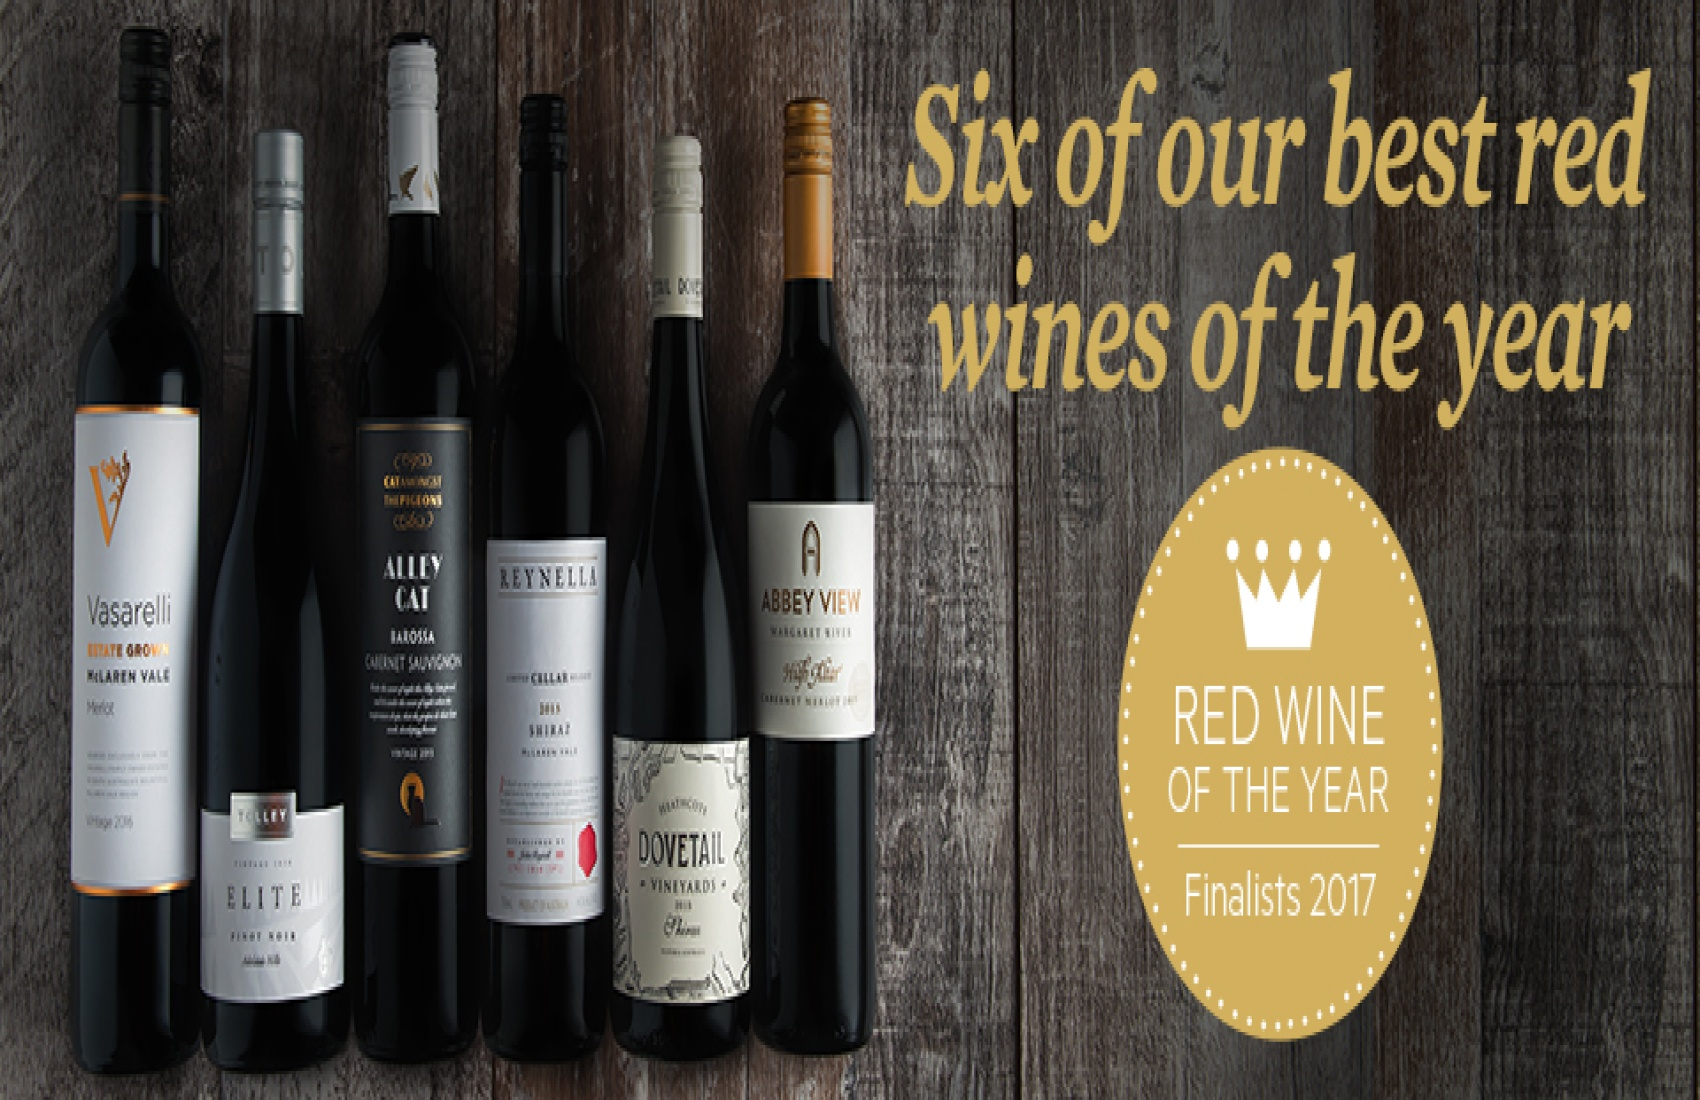wine: (348, 45, 480, 1068), (68, 45, 199, 1062), (204, 137, 341, 1072), (750, 116, 880, 1047), (624, 144, 748, 1062), (491, 77, 607, 1053)
